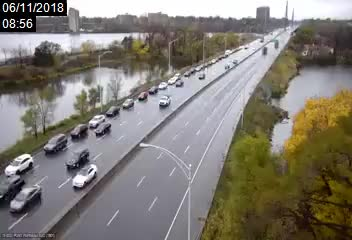personal_car: (10, 184, 43, 213), (4, 153, 35, 178), (1, 172, 24, 205), (72, 164, 99, 189), (44, 133, 67, 155), (67, 148, 88, 170), (70, 123, 88, 138), (94, 123, 113, 135), (89, 115, 105, 127), (159, 94, 171, 106), (106, 106, 120, 116), (122, 98, 134, 108), (148, 86, 159, 94), (158, 81, 167, 90), (137, 92, 147, 100), (175, 79, 184, 87), (197, 72, 205, 80), (168, 77, 175, 86), (173, 72, 180, 80), (194, 65, 201, 72), (183, 70, 190, 77), (189, 67, 195, 74)
